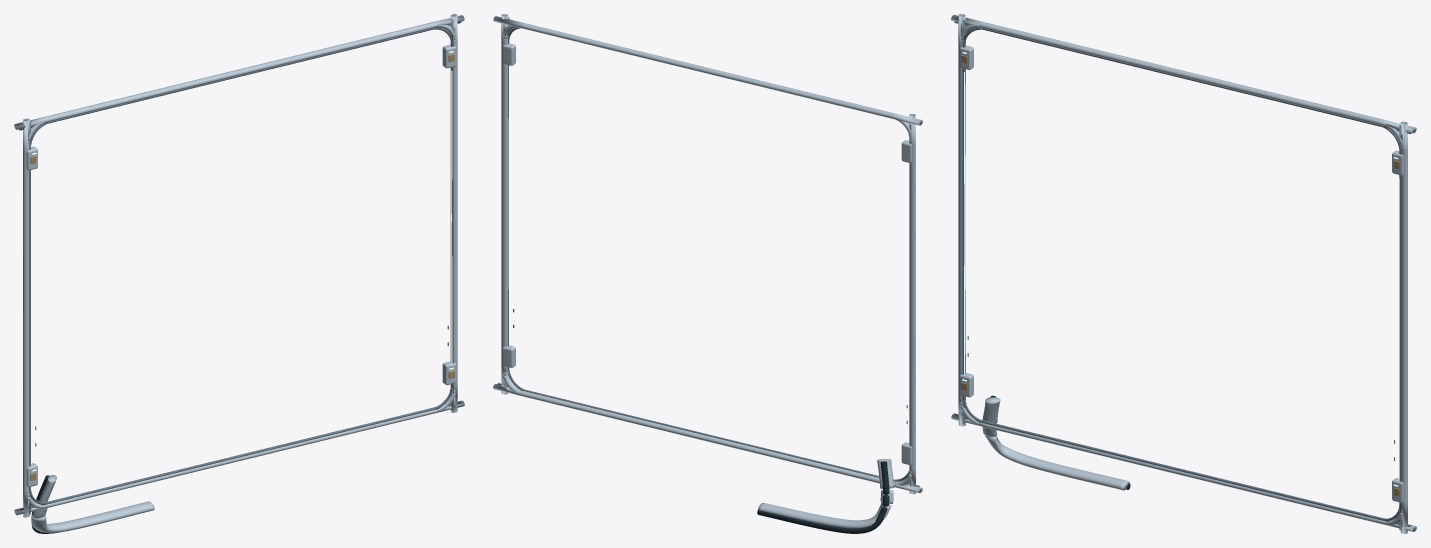
File: tem-cinematic-display.glb
3 views of the same model, side by side, from view 1: azimuth 30°, elevation 25°; view 2: azimuth 150°, elevation 25°; view 3: azimuth 330°, elevation 25° (orthographic). The views are drawn at different scales.
Parts seen in each view (by area): view 1: DISPLAY_FRAME_PEARL_CERAMIC, DISPLAY_FRAME_TITANIUM_COLD, DISPLAY_FRAME_EMISSION_CYAN; view 2: DISPLAY_FRAME_PEARL_CERAMIC, DISPLAY_FRAME_TITANIUM_COLD, DISPLAY_FRAME_DARK_PRESSURE; view 3: DISPLAY_FRAME_PEARL_CERAMIC, DISPLAY_FRAME_TITANIUM_COLD, DISPLAY_FRAME_EMISSION_CYAN.
Part boxes in pixels (x1,y1,x2,y2): DISPLAY_FRAME_PEARL_CERAMIC: (14, 14, 464, 533); DISPLAY_FRAME_TITANIUM_COLD: (19, 19, 461, 513); DISPLAY_FRAME_EMISSION_CYAN: (31, 51, 453, 471); DISPLAY_FRAME_PEARL_CERAMIC: (493, 14, 922, 528); DISPLAY_FRAME_TITANIUM_COLD: (497, 17, 919, 487); DISPLAY_FRAME_DARK_PRESSURE: (757, 461, 889, 533); DISPLAY_FRAME_PEARL_CERAMIC: (951, 14, 1416, 533); DISPLAY_FRAME_TITANIUM_COLD: (954, 19, 1411, 530); DISPLAY_FRAME_EMISSION_CYAN: (962, 52, 1399, 486).
Size of the model in its own units: 13.59 by 12.77 by 1.29.
